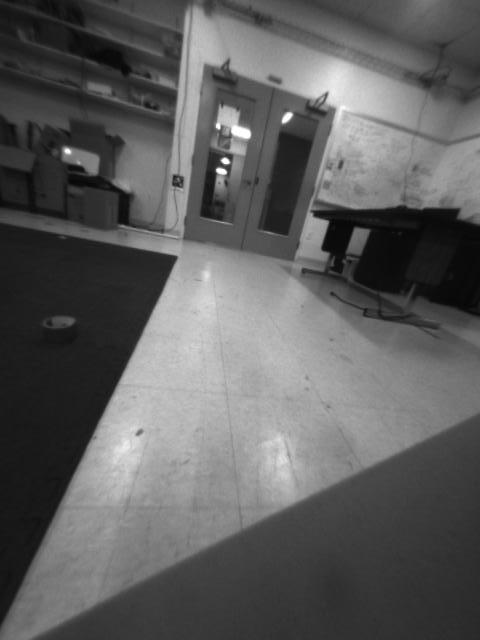dogtoy: (34, 308, 81, 346)
